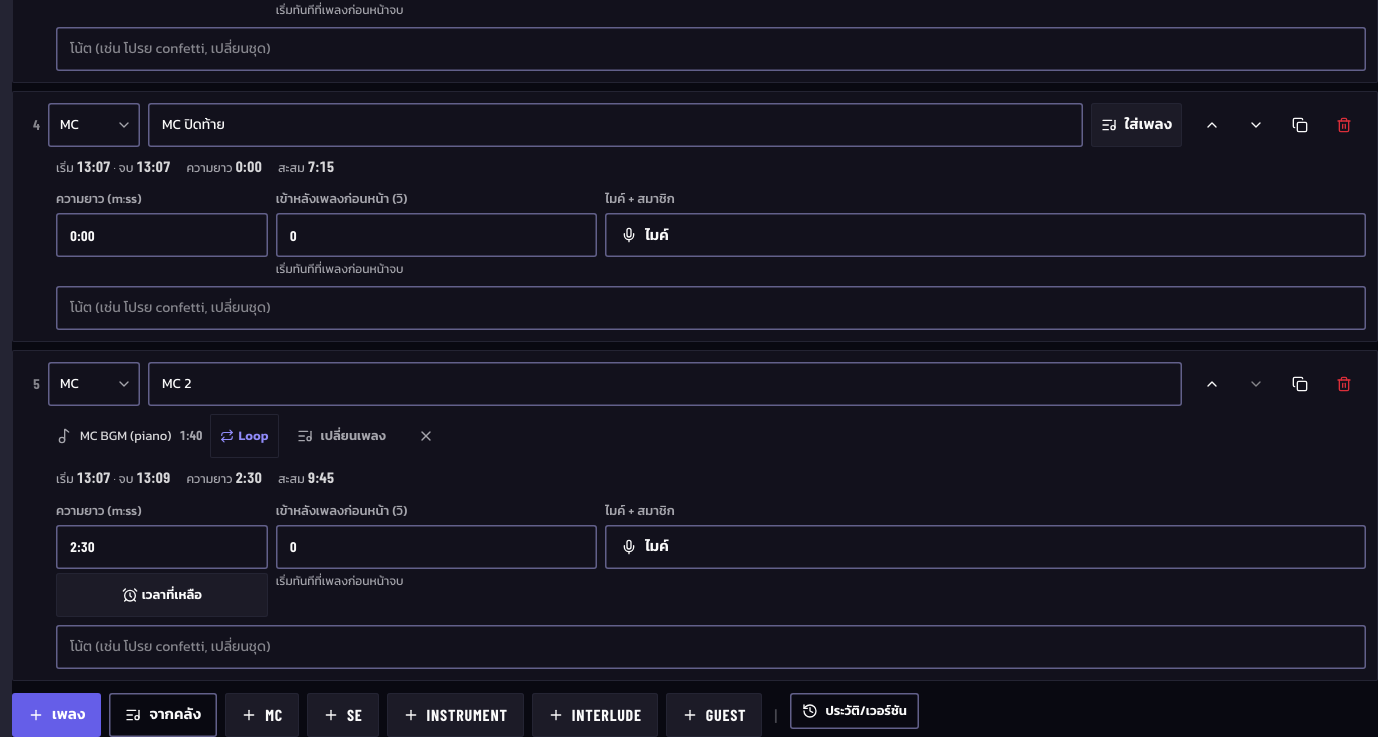
Test: SetlistBuilder — music for a row that is not a song › the music line: what is linked, Loop on / off, เอาออก - the row's own title and length stay
(page scrolled)
Check: the element with test id "row-music-mcm" shows "MC BGM (piano)", box [80,426,172,445]
Click the switch labelled "Loop" at (245, 436), box [210,414,279,458]
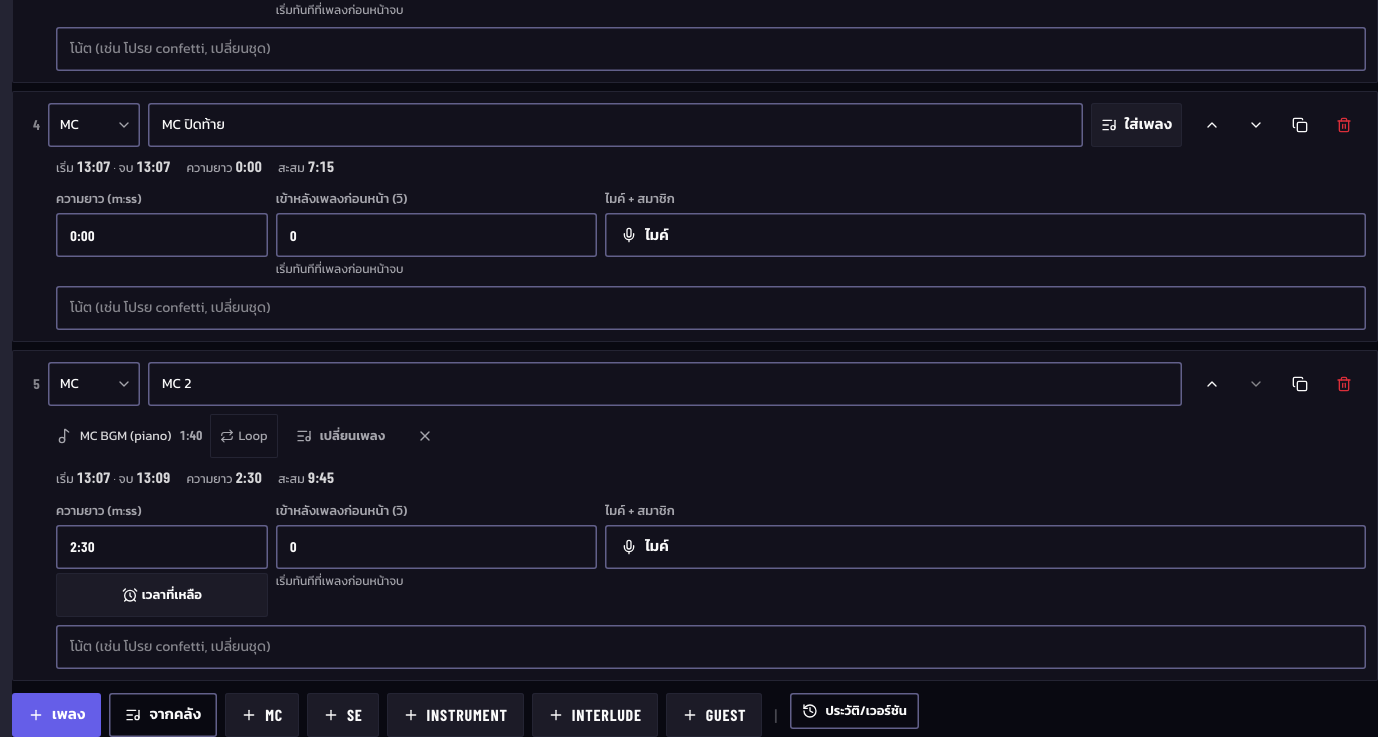
Click the button named "เอาเพลงออก" at (425, 436), box [403,414,447,458]
(page scrolled)
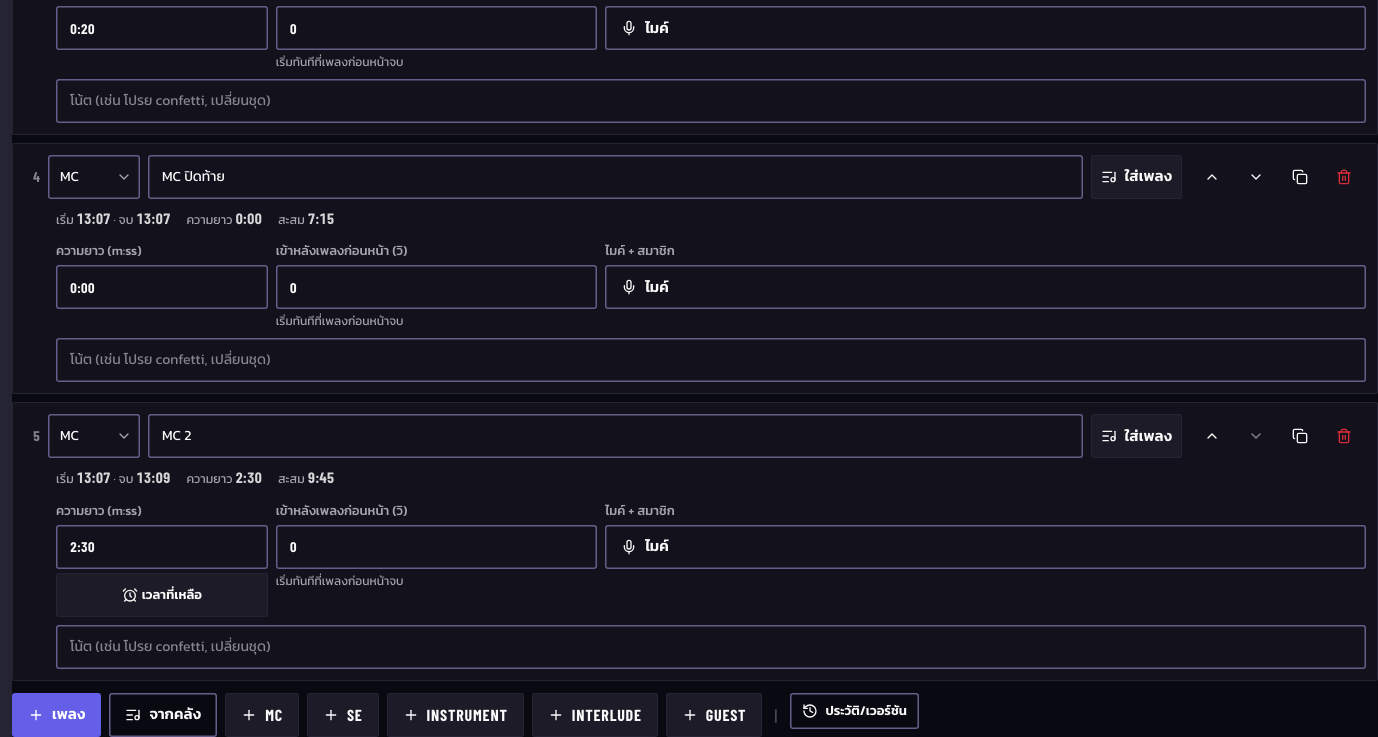
Check: the 2nd field showing "MC 2" is shown, box [148,414,1083,458]
Check: the element with test id "row-music-mcm" is gone
